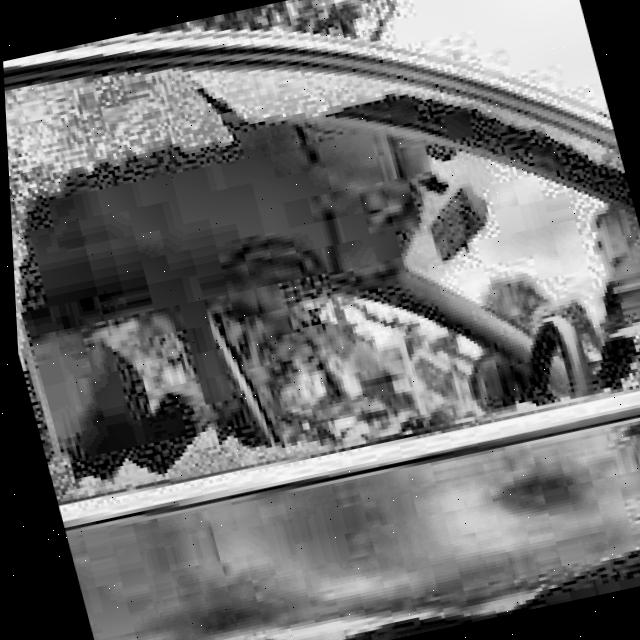glass_shatter: (3, 50, 640, 520)
